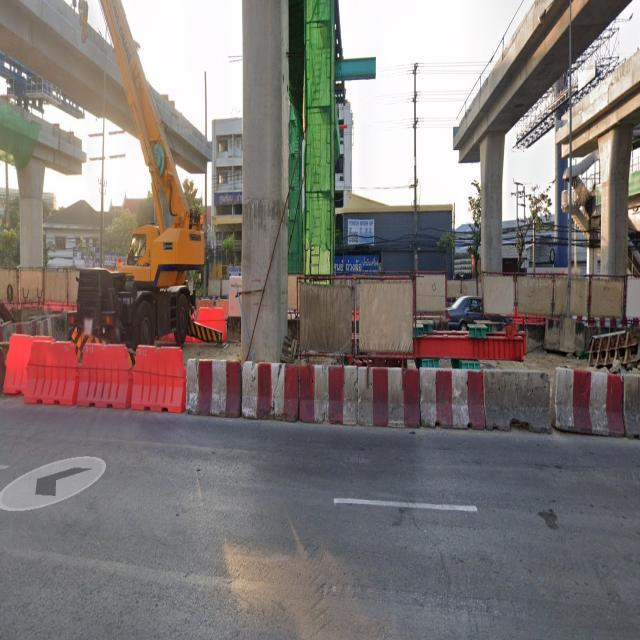fallen_object: (52, 315, 186, 420), (402, 350, 558, 438), (283, 346, 424, 442), (165, 342, 293, 434), (530, 359, 640, 444), (0, 316, 82, 415)
